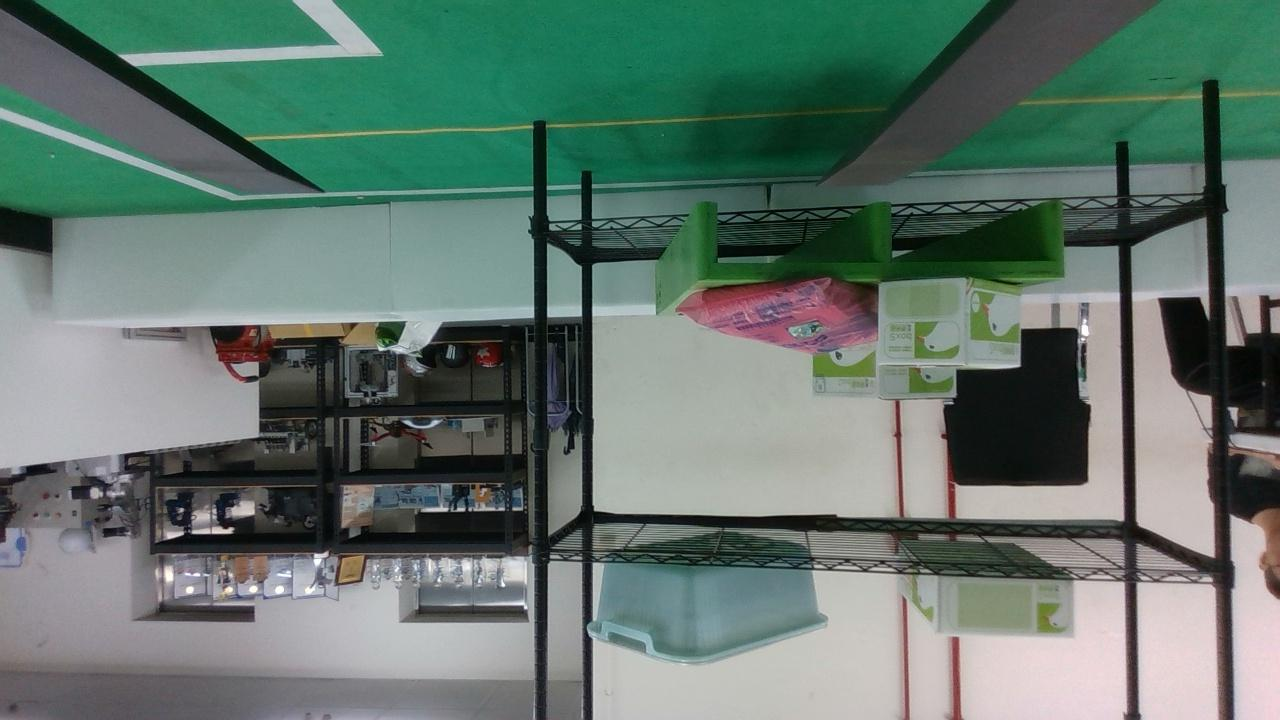Pallet: (695, 201, 1067, 282)
